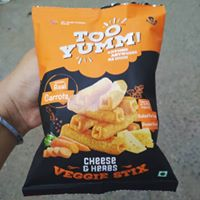plastic: (32, 3, 167, 191)
tooyumm: (58, 20, 143, 62)
wrapper: (30, 13, 168, 190)
